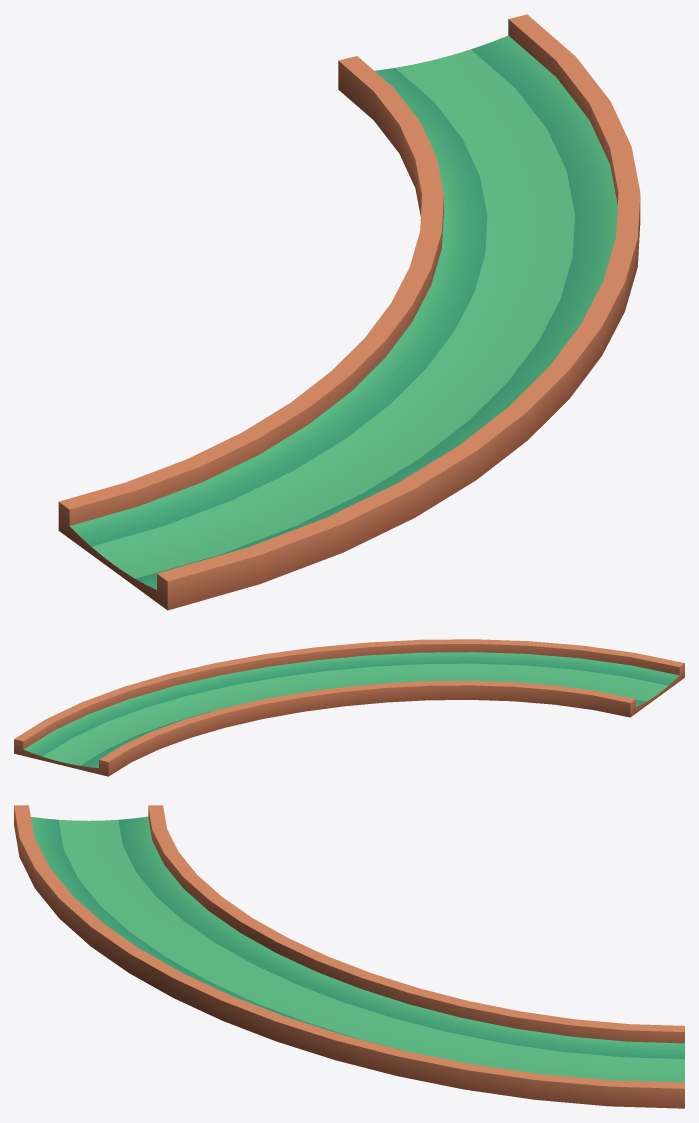
File: spline-concave-corner-large.glb
The picture shows the model from 3 angles, top to bottom: view 1: azimuth 30°, elevation 25°; view 2: azimuth 150°, elevation 25°; view 3: azimuth 270°, elevation 25°; orthographic projection. The views are drawn at different scales.
Visible parts, largest first — view 1: spline-concave-corner-large; view 2: spline-concave-corner-large; view 3: spline-concave-corner-large.
Boxes of the visible parts, left/top/right/bottom form: spline-concave-corner-large: left=58, top=14, right=640, bottom=610; spline-concave-corner-large: left=14, top=639, right=684, bottom=776; spline-concave-corner-large: left=14, top=805, right=684, bottom=1108.
Size of the model in its own units: 4.5 by 0.1467 by 4.5.
Materials: 1 (1 with a texture image).
